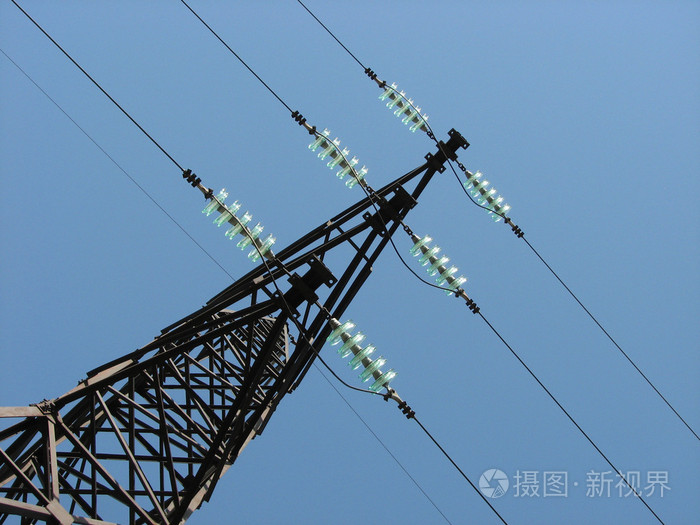insulator: (324, 317, 398, 393), (199, 187, 275, 258), (309, 131, 370, 189), (409, 234, 465, 296), (379, 81, 428, 134), (463, 170, 509, 221)
